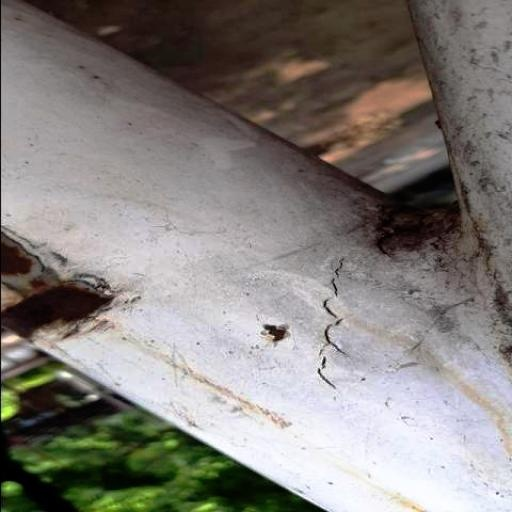crack: (315, 249, 356, 398)
